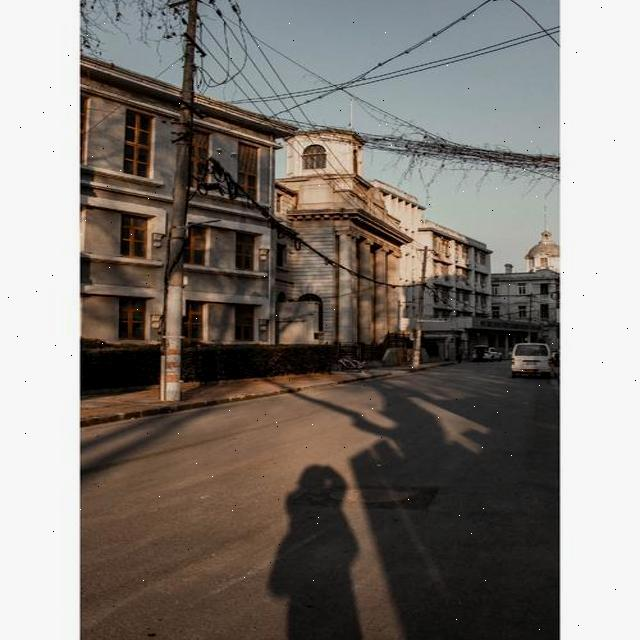curb: (81, 373, 392, 427)
